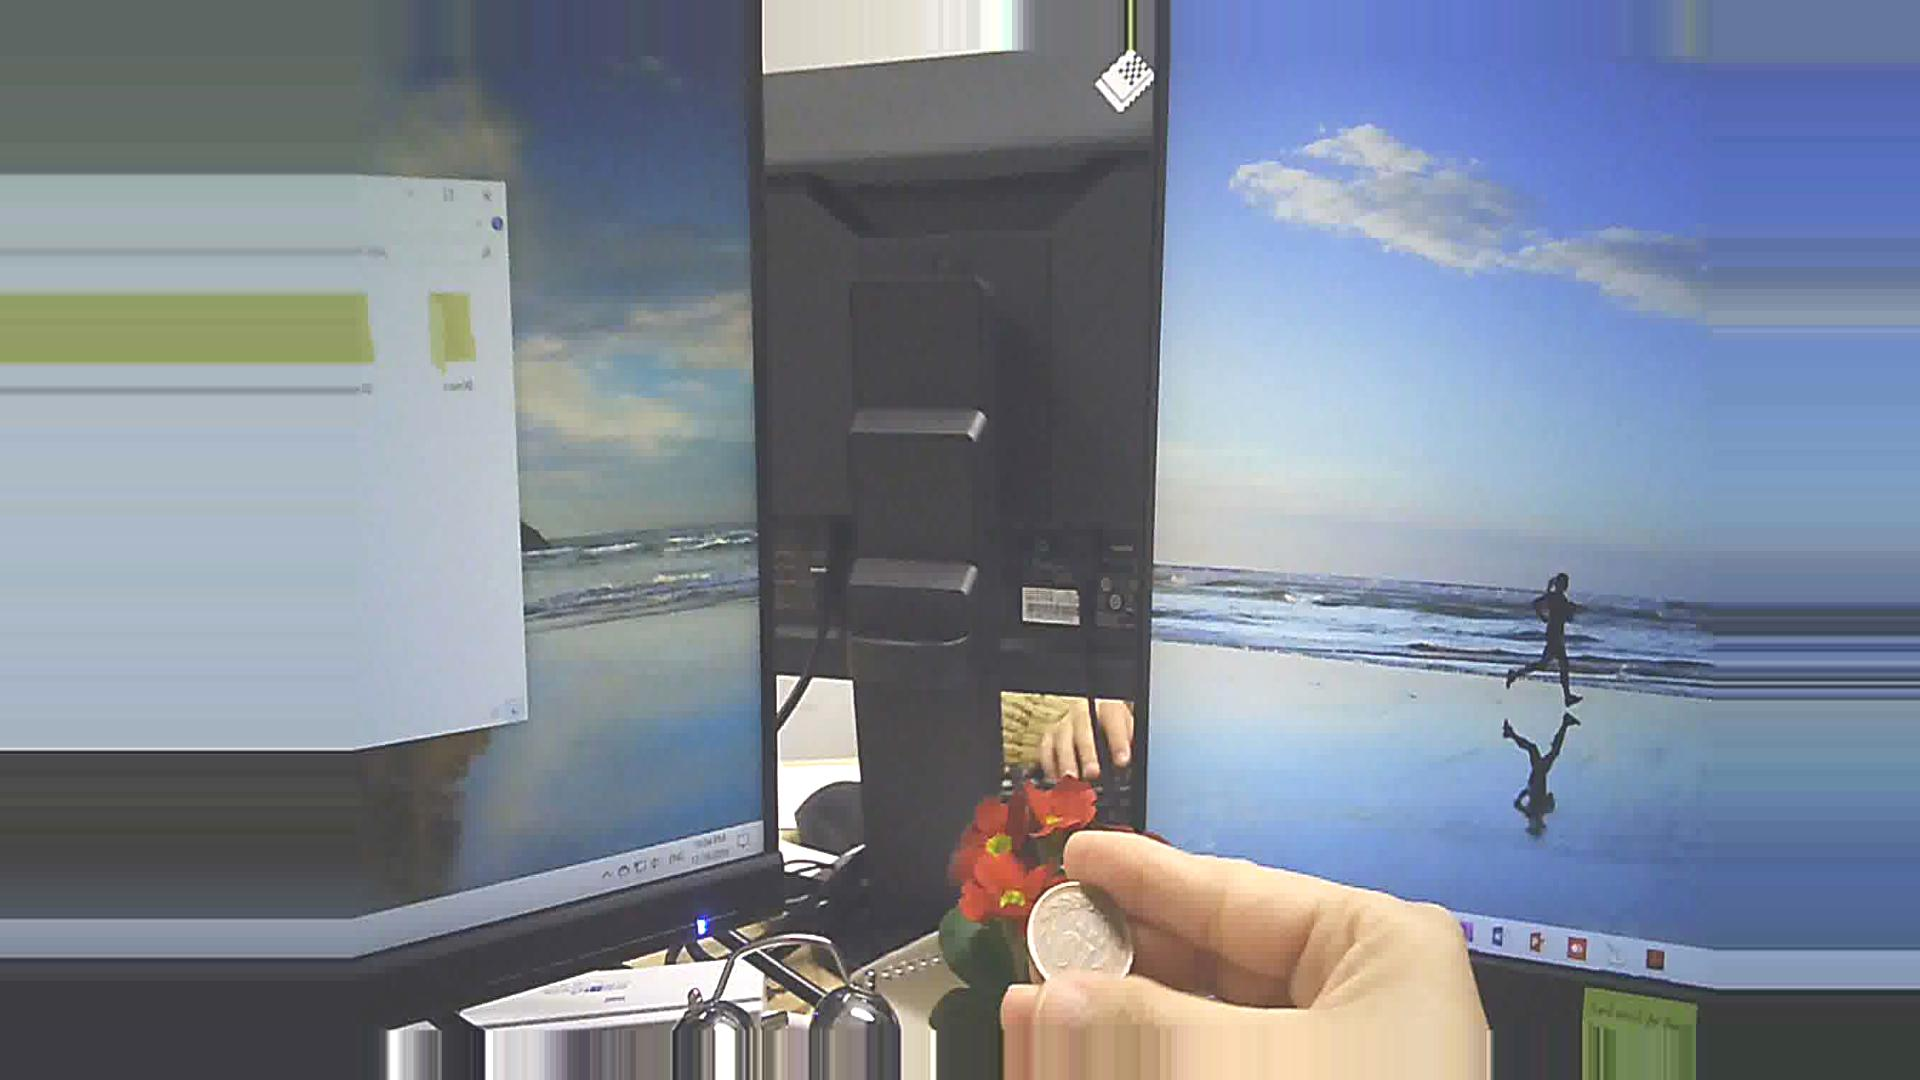10 Yen: (1023, 870, 1143, 1000)
